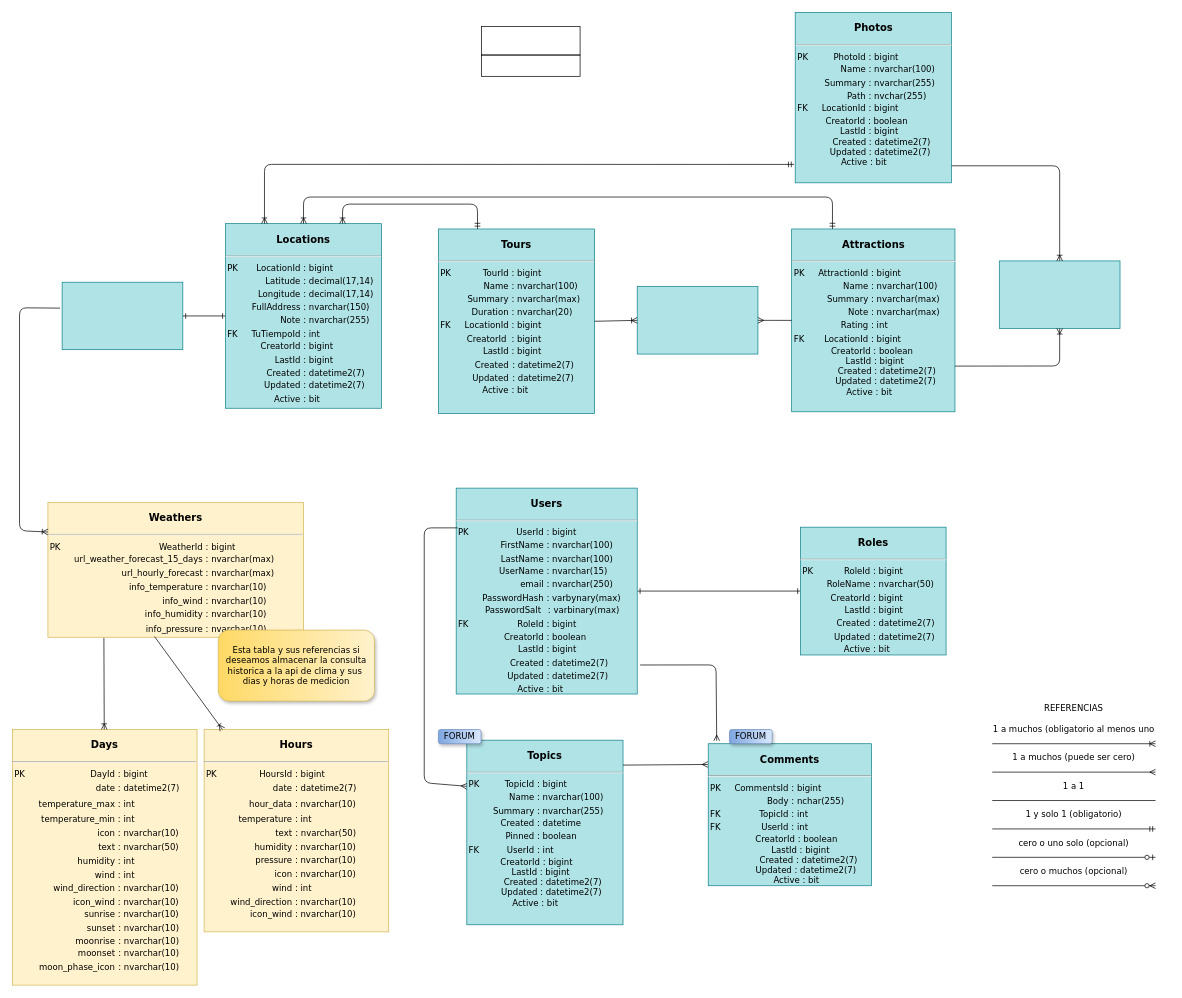
Some shapes in this 1182 by 998 pixel diagram are drawn without their labels. Each missing label, with the centre of its shape:
"Attraction_photos FK photoId : bigint FK attractionId : bigint" goes at point (1059, 294).
"MOD. BD RELACIONAL GRUPO 1B VIAJES 365º" goes at point (530, 40).
"Tour_attractions FK TourId : bigint FK AttractionId : bigint" goes at point (697, 320).
"TuTiempo PK ID : bigint Name : nvarchar(max)" goes at point (122, 316).
